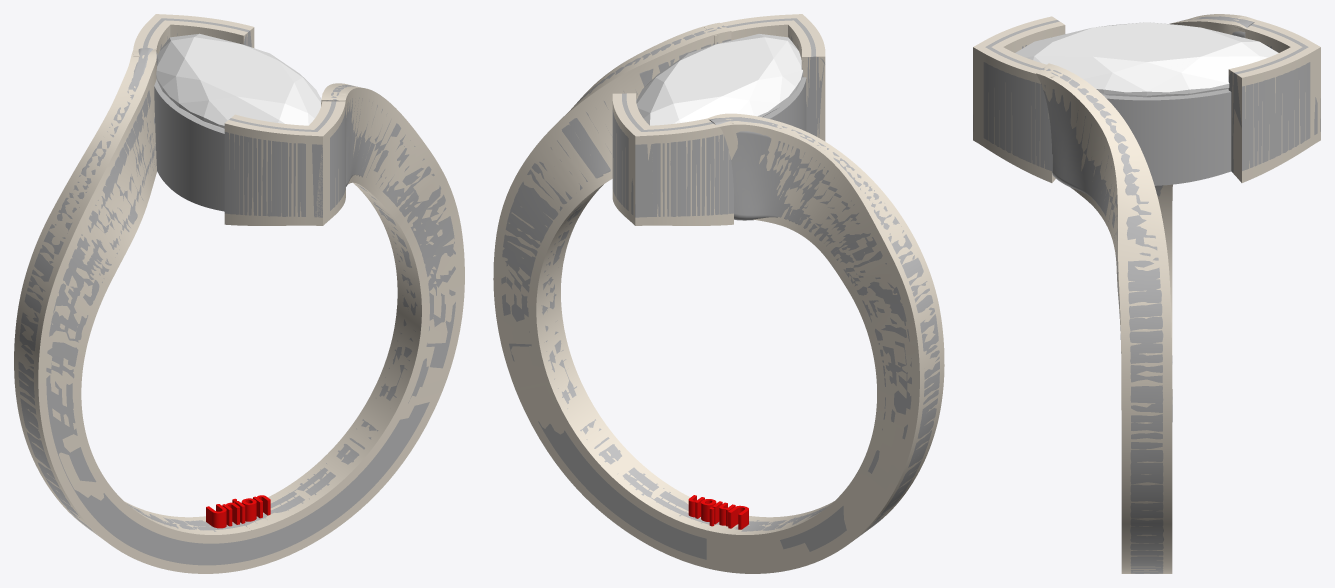
File: LRS-02.glb
3 views of the same model, side by side, from view 1: azimuth 30°, elevation 25°; view 2: azimuth 150°, elevation 25°; view 3: azimuth 270°, elevation 25° (orthographic). The views are drawn at different scales.
Parts seen in each view (by area): view 1: LRS-023dm, Diamond_Marquise; view 2: LRS-023dm, Diamond_Marquise; view 3: LRS-023dm, Diamond_Marquise.
Part boxes in pixels (bbox=[...]): LRS-023dm: bbox=[14, 14, 464, 573]; Diamond_Marquise: bbox=[156, 33, 321, 129]; LRS-023dm: bbox=[493, 14, 944, 573]; Diamond_Marquise: bbox=[636, 34, 803, 125]; LRS-023dm: bbox=[973, 14, 1320, 573]; Diamond_Marquise: bbox=[1015, 22, 1278, 97].
Bounding box in the file's own units: 2.45 × 2.69 × 1.66.
